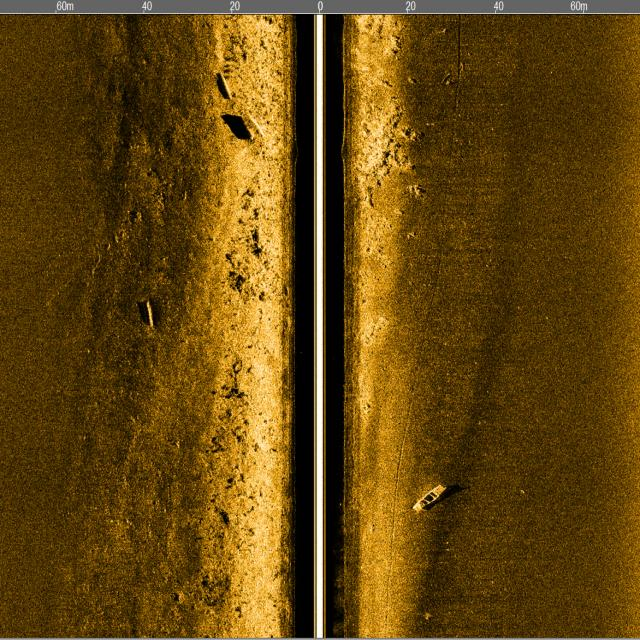ship: (408, 471, 448, 520)
